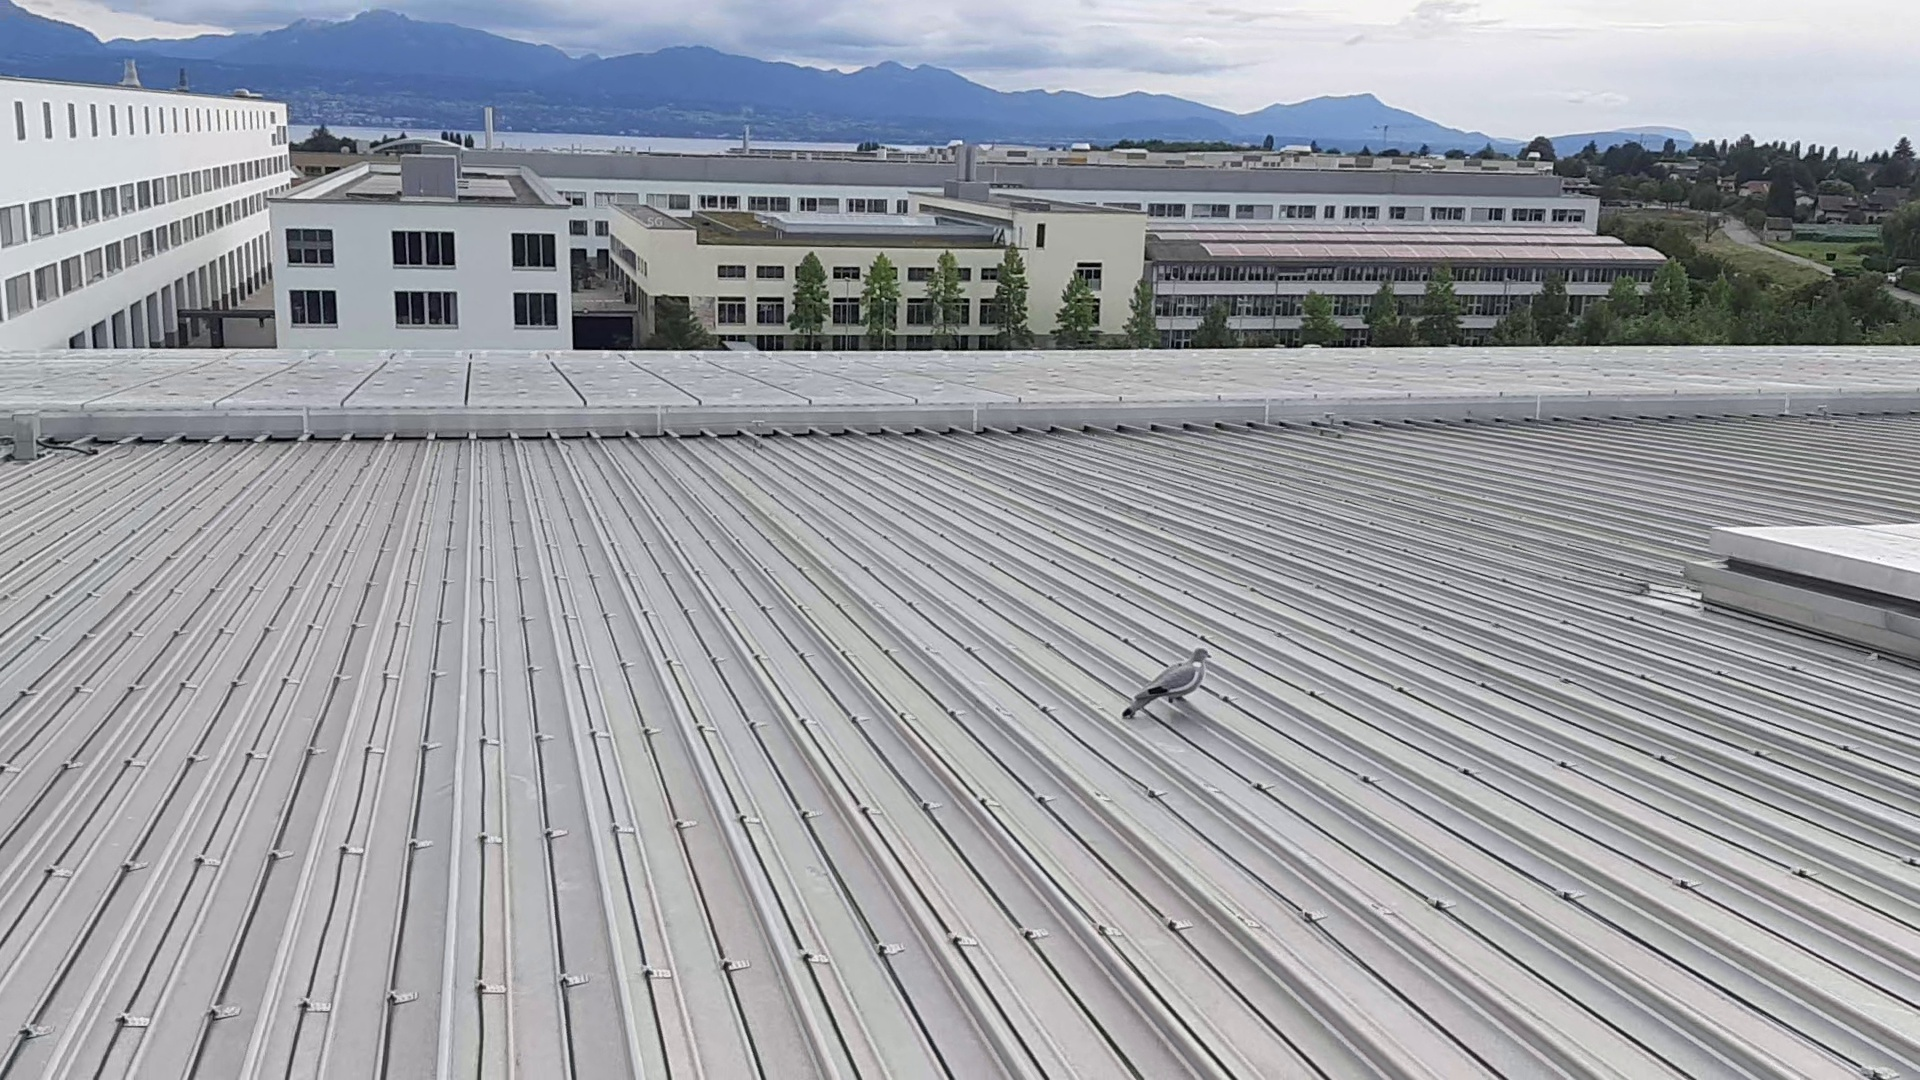Pigeon: (1122, 645, 1217, 719)
